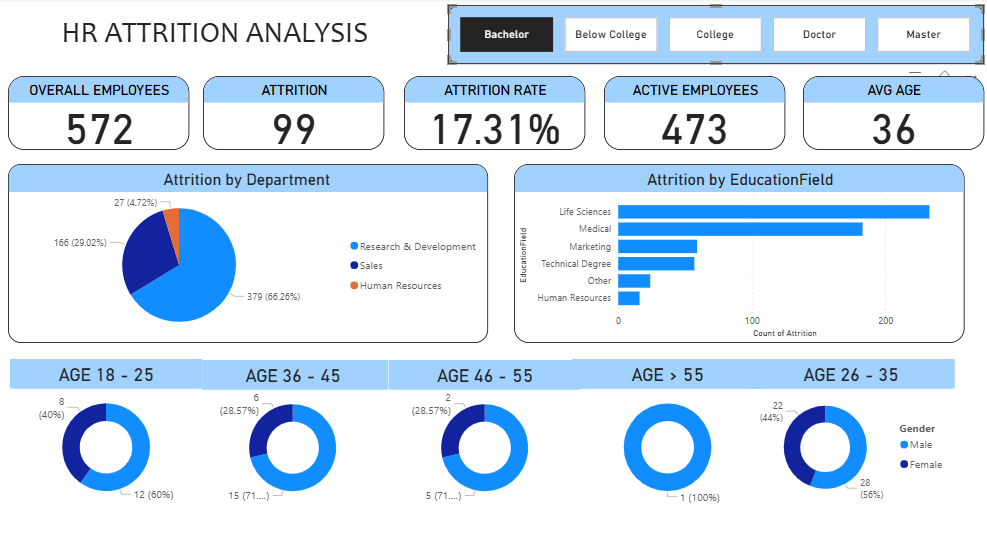

The dashboard page shown, as its layout file describes it:
{"tool":"powerbi","page":{"name":"TIKTOKINSPIRED","canvas":[1280,720],"ordinal":3},"visuals":[{"type":"advancedSlicerVisual","fields":{"Values":["EmployeeTable.Education Level"]},"box":[581.2,8.8,688.8,76.2],"z":0},{"type":"card","title":"OVERALL EMPLOYEES","fields":{"Values":["CountNonNull(EmployeeTable.EmployeeCount)"]},"box":[15,100,232.5,95],"z":1000},{"type":"card","title":"ATTRITION","fields":{"Values":["EmployeeTable.Attrition Count"]},"box":[266.2,100,232.5,95],"z":2000},{"type":"card","title":"ATTRITION RATE","fields":{"Values":["EmployeeTable.Attrition Rate"]},"box":[523.8,100,232.5,95],"z":3000},{"type":"card","title":"ACTIVE EMPLOYEES","fields":{"Values":["EmployeeTable.Active Employees"]},"box":[781.2,100,232.5,95],"z":4000},{"type":"card","title":"AVG AGE","fields":{"Values":["EmployeeTable.Average Age"]},"box":[1037.5,100,232.5,95],"z":5000},{"type":"pieChart","title":"Attrition by Department","fields":{"Category":["EmployeeTable.Department"],"Y":["CountNonNull(EmployeeTable.Attrition)"]},"box":[15.2,213.4,616.8,229.8],"z":6000},{"type":"barChart","title":"Attrition by EducationField","fields":{"Category":["EmployeeTable.EducationField"],"Y":["CountNonNull(EmployeeTable.Attrition)"]},"box":[666.1,213.4,579.3,229.8],"z":7000},{"type":"donutChart","title":"36 - 45","fields":{"Category":["EmployeeTable.Gender"],"Y":["EmployeeTable.Attrition Count"]},"box":[258.4,464.8,246.4,193.1],"z":8000},{"type":"donutChart","title":"46 - 55","fields":{"Category":["EmployeeTable.Gender"],"Y":["EmployeeTable.Attrition Count"]},"box":[504.8,464.8,246.4,193.1],"z":9000},{"type":"donutChart","title":"18 - 25","fields":{"Category":["EmployeeTable.Gender"],"Y":["EmployeeTable.Attrition Count"]},"box":[18.6,464.3,247.1,194.3],"z":10000},{"type":"donutChart","title":"26 - 35","fields":{"Category":["EmployeeTable.Gender"],"Y":["EmployeeTable.Attrition Count"]},"box":[965.7,464.3,267.1,194.3],"z":11000},{"type":"donutChart","title":"55","fields":{"Category":["EmployeeTable.Gender"],"Y":["EmployeeTable.Attrition Count"]},"box":[740,464.3,245.7,194.3],"z":12000},{"type":"textbox","box":[14.7,9.3,534.1,75.9],"z":13000}]}

Visuals, with their boxes in screenshot pixels (x1, y1, x2, y2), scaled from the page's 1280x720 canvas onto the 987x547 screenshot:
advancedSlicerVisual - EmployeeTable.Education Level: [x1=448, y1=7, x2=979, y2=65]
"OVERALL EMPLOYEES" card: [x1=12, y1=76, x2=191, y2=148]
"ATTRITION" card: [x1=205, y1=76, x2=385, y2=148]
"ATTRITION RATE" card: [x1=404, y1=76, x2=583, y2=148]
"ACTIVE EMPLOYEES" card: [x1=602, y1=76, x2=782, y2=148]
"AVG AGE" card: [x1=800, y1=76, x2=979, y2=148]
"Attrition by Department" pieChart: [x1=12, y1=162, x2=487, y2=337]
"Attrition by EducationField" barChart: [x1=514, y1=162, x2=960, y2=337]
"36 - 45" donutChart: [x1=199, y1=353, x2=389, y2=500]
"46 - 55" donutChart: [x1=389, y1=353, x2=579, y2=500]
"18 - 25" donutChart: [x1=14, y1=353, x2=205, y2=500]
"26 - 35" donutChart: [x1=745, y1=353, x2=951, y2=500]
"55" donutChart: [x1=571, y1=353, x2=760, y2=500]
textbox: [x1=11, y1=7, x2=423, y2=65]
